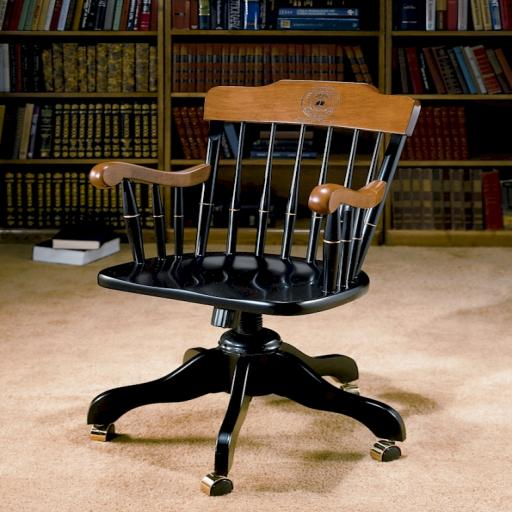chair: (78, 63, 428, 503)
